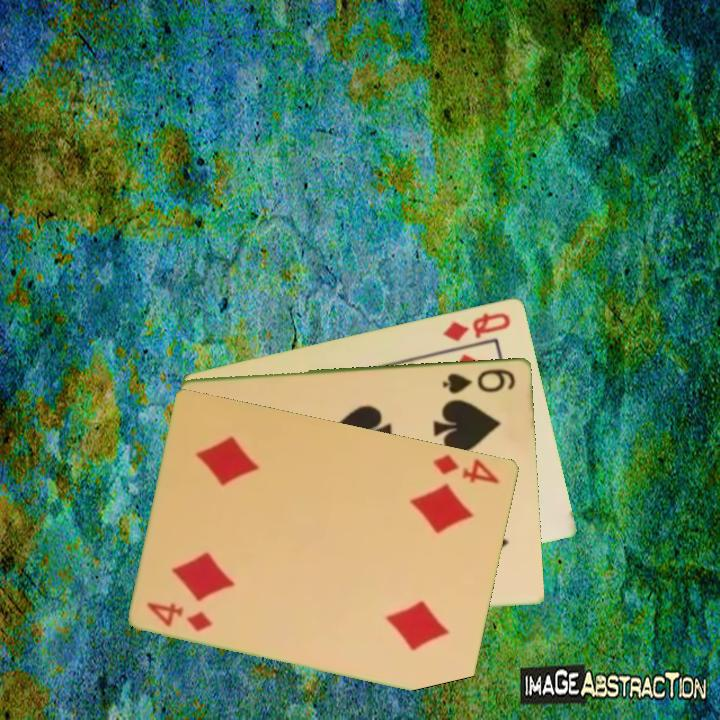4d: (430, 450, 503, 487), (143, 598, 216, 634)
6s: (440, 364, 519, 396)
Qd: (439, 308, 514, 344)
